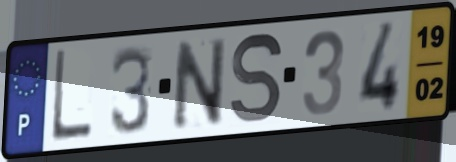3: (300, 27, 347, 117), (108, 42, 152, 137)
4: (355, 18, 403, 114)
L: (49, 47, 95, 146)
N: (172, 34, 228, 134)
S: (228, 29, 285, 127)
